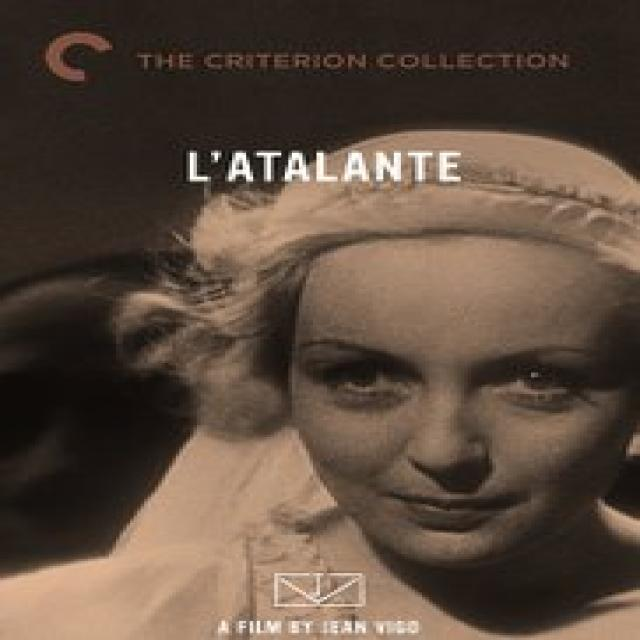movie-judul: (186, 147, 472, 186)
picture: (0, 0, 640, 640)
